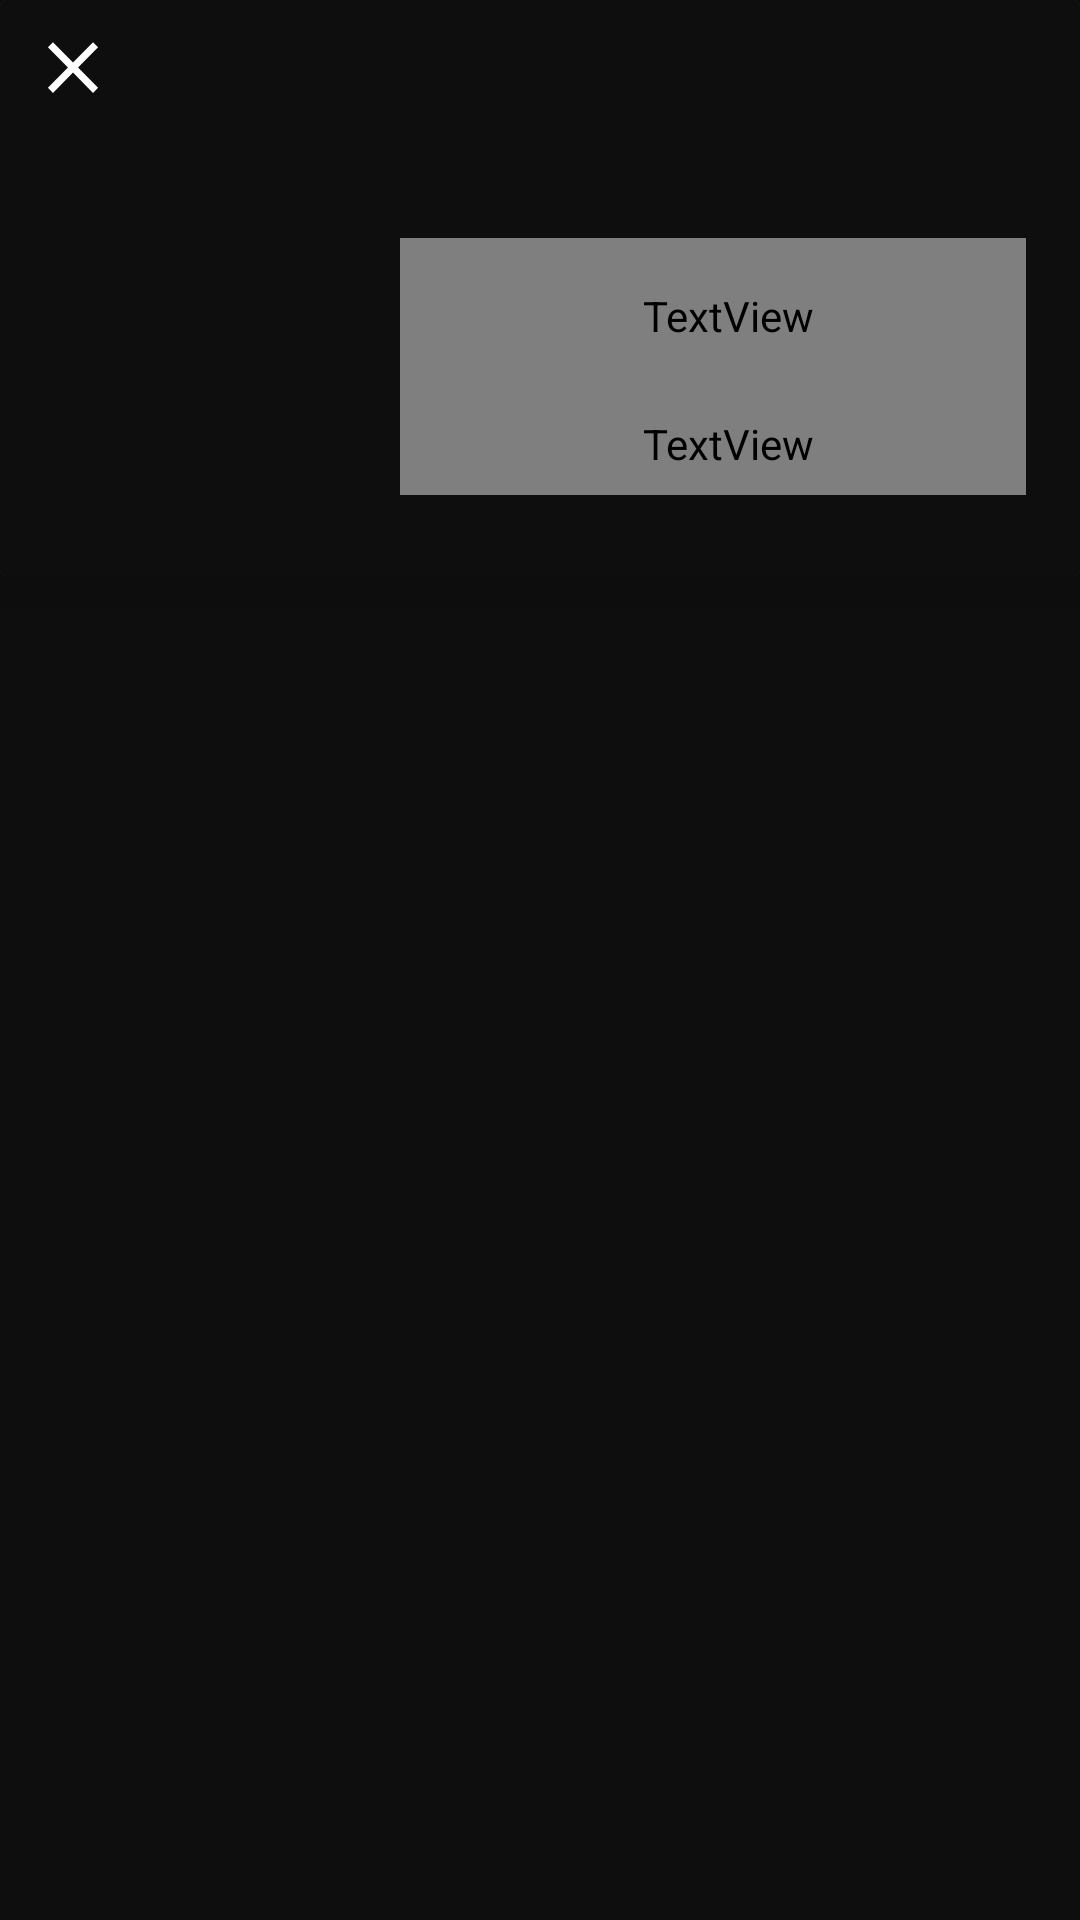

Where icons sit on this 1080w x 1920h app screen, as {"left": x1, "top": y1, "right": x2, "bottom": y2}:
close: {"left": 48, "top": 42, "right": 98, "bottom": 93}
